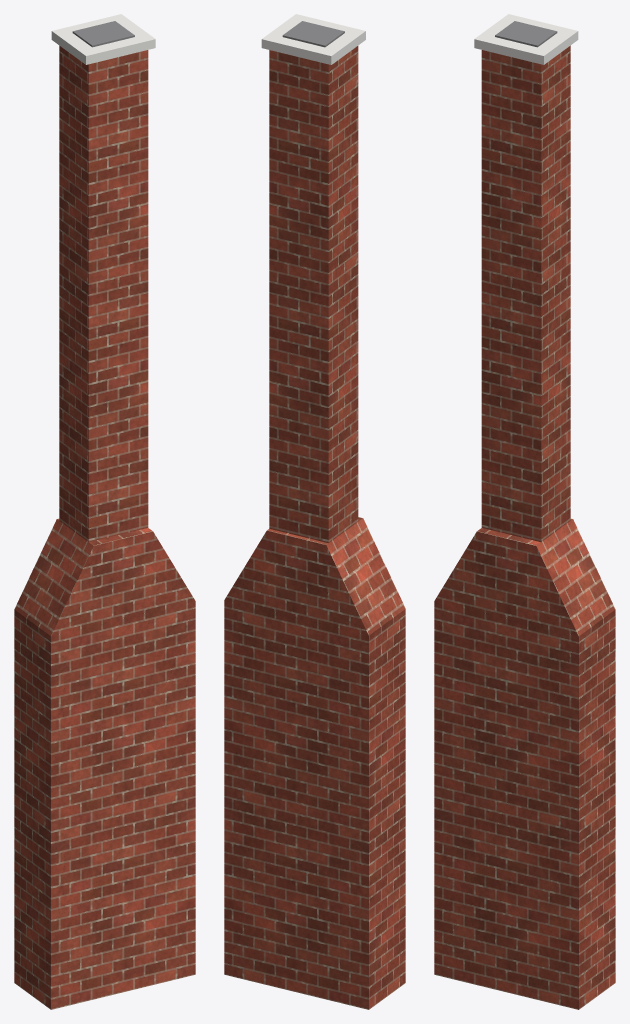
The model's file is chimney.glb.
3 renders of one model, left to right at view 1: azimuth 30°, elevation 25°; view 2: azimuth 150°, elevation 25°; view 3: azimuth 330°, elevation 25°, orthographic.
Visible parts, largest first — view 1: chimney_brick, chimney_trim, chimney_dark; view 2: chimney_brick, chimney_trim, chimney_dark; view 3: chimney_brick, chimney_trim, chimney_dark.
Part boxes in pixels (x1,y1,x2,y2): chimney_brick: (14,45,195,1009); chimney_trim: (51,14,155,64); chimney_dark: (72,21,134,47); chimney_brick: (224,46,405,1009); chimney_trim: (261,14,365,64); chimney_dark: (282,21,344,47); chimney_brick: (434,45,615,1009); chimney_trim: (474,14,578,64); chimney_dark: (495,21,557,47).
Bounding box in the file's own units: 1.7 × 10.62 × 0.75.
3 materials, 1 textured.
